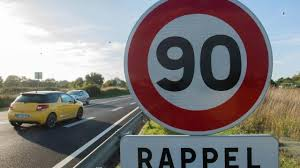Speed_limit_90km: (122, 1, 274, 134)
car: (7, 89, 87, 127)
